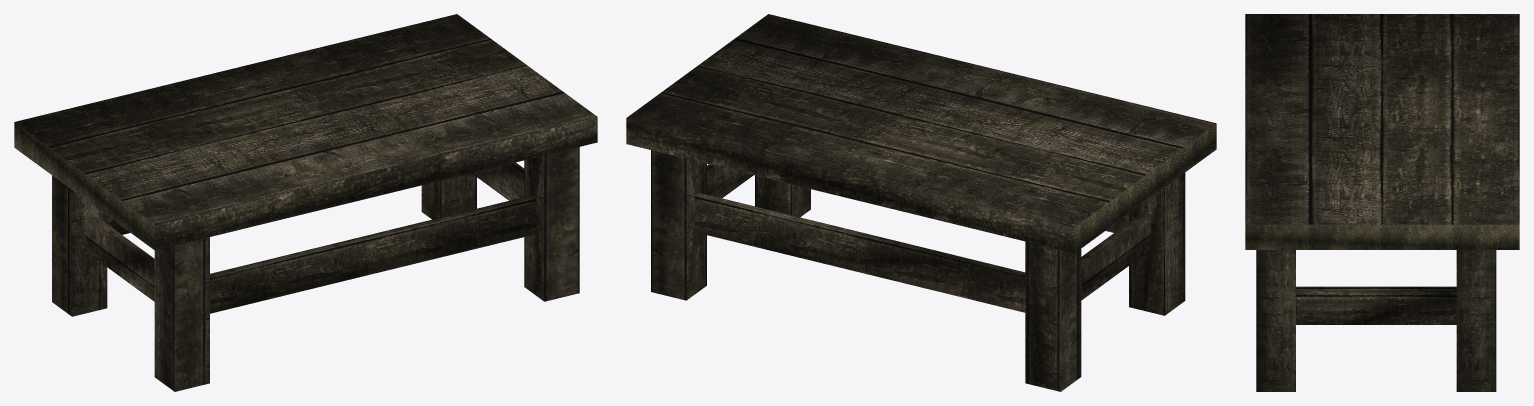
File: KM_VOB_TAVERN_TABLE_01.glb
3 renders of one model, left to right at view 1: azimuth 30°, elevation 25°; view 2: azimuth 150°, elevation 25°; view 3: azimuth 270°, elevation 25°, orthographic. The views are drawn at different scales.
Visible parts, largest first — view 1: Mesh; view 2: Mesh; view 3: Mesh.
Part boxes in pixels (box(x1,y1,x2,y2)): Mesh: box(14, 14, 597, 391); Mesh: box(626, 14, 1216, 391); Mesh: box(1245, 14, 1519, 391).
Size of the model in its own units: 1.89 by 0.7235 by 1.04.
2 materials, 2 textured.
